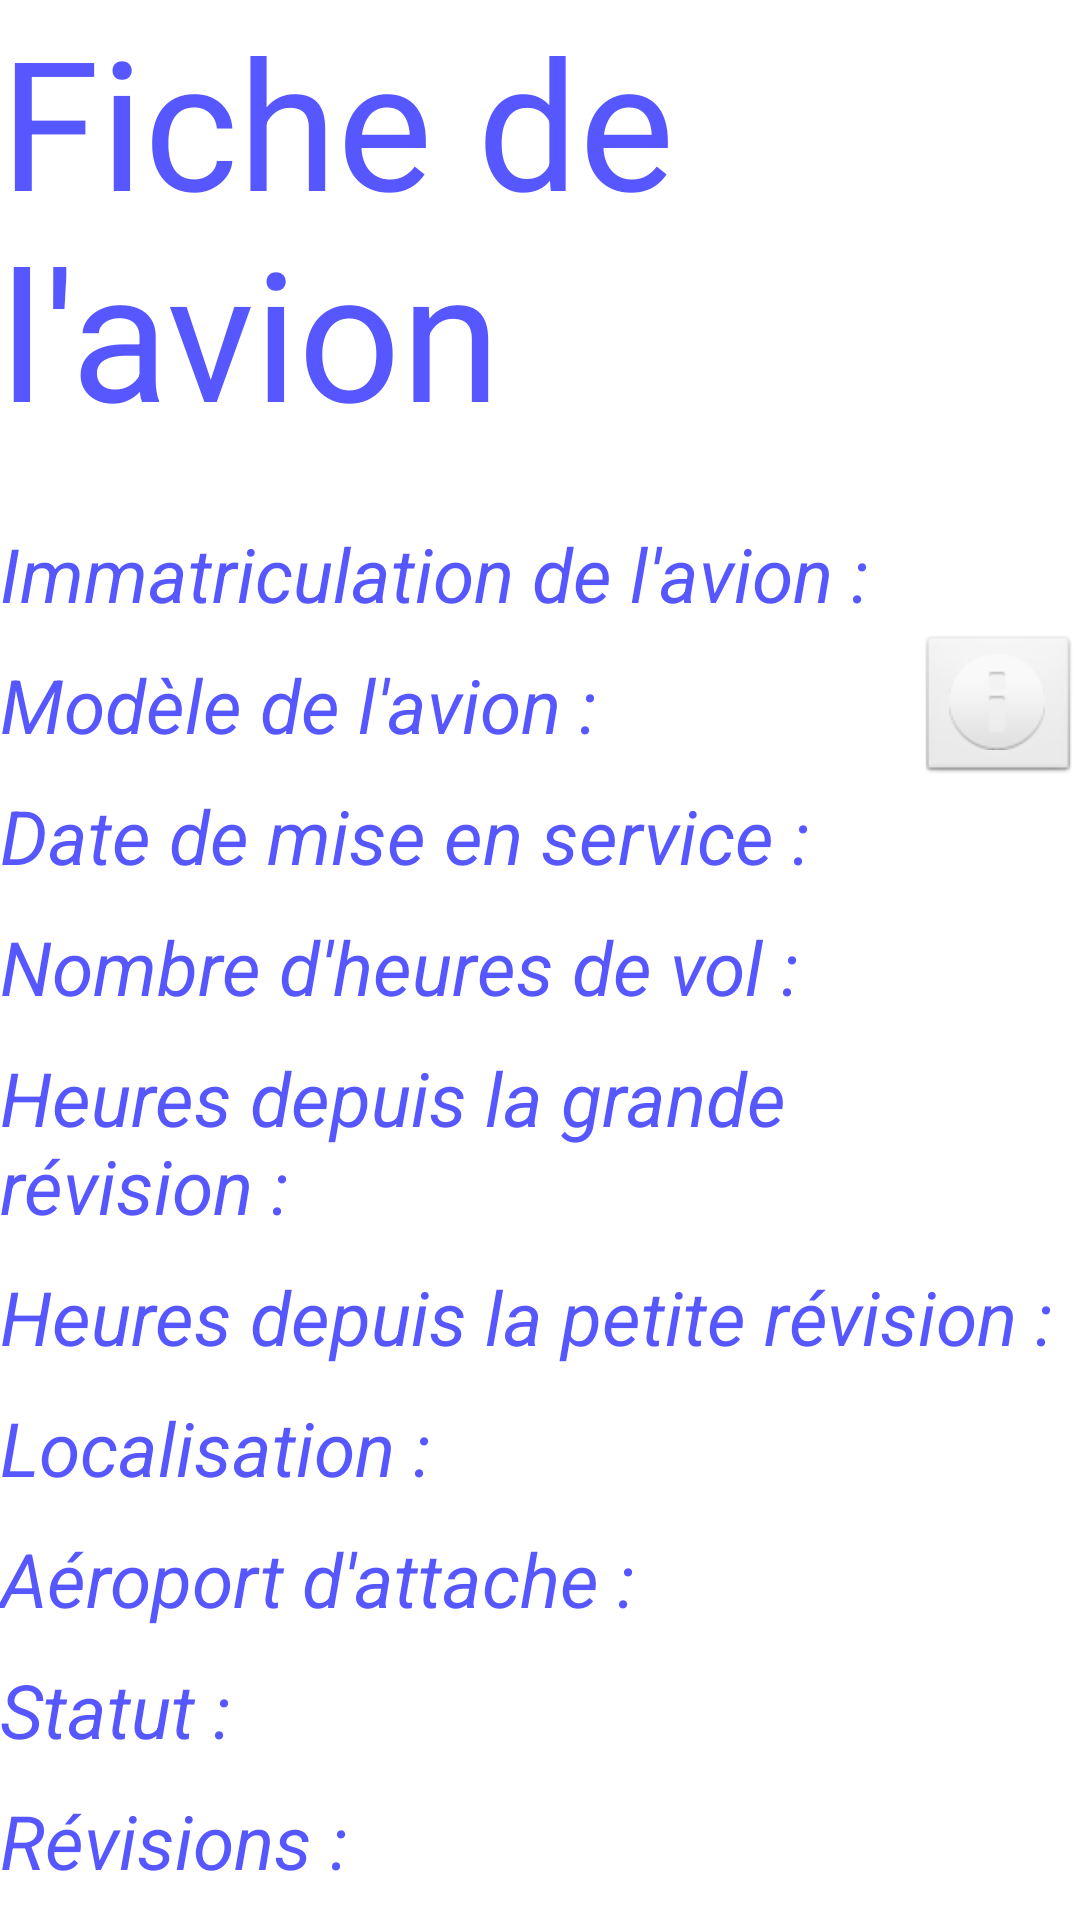

Point at icon controls on the screen. Image size 1080px×1920px, points as point (x, y).
info: point (998, 704)
